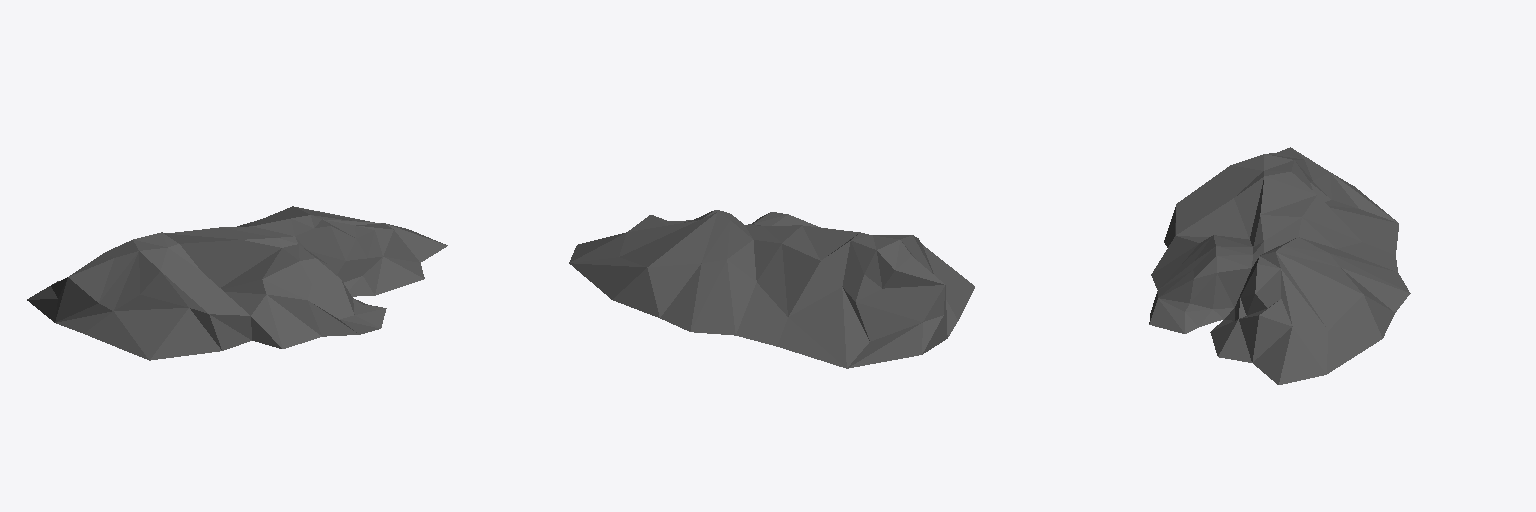
Rendered from vegetation5.obj.
3 views of the same model, side by side, from view 1: azimuth 30°, elevation 25°; view 2: azimuth 150°, elevation 25°; view 3: azimuth 270°, elevation 25° (orthographic).
Parts seen in each view (by area): view 1: vegetation1; view 2: vegetation1; view 3: vegetation1.
Part boxes in pixels (bbox=[...]): vegetation1: bbox=[27, 206, 447, 360]; vegetation1: bbox=[569, 210, 974, 368]; vegetation1: bbox=[1149, 147, 1410, 384].
Bounding box in the file's own units: 163 × 33.62 × 96.4.